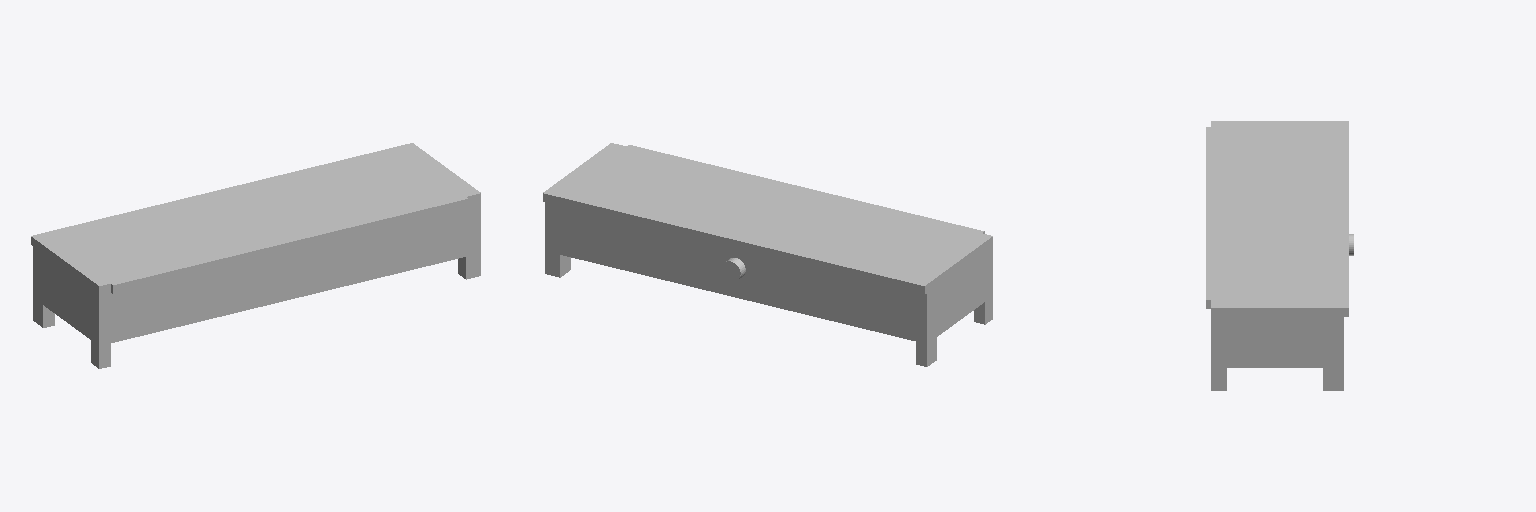
File: 电视柜.obj
The picture shows the model from 3 angles: view 1: azimuth 30°, elevation 25°; view 2: azimuth 150°, elevation 25°; view 3: azimuth 270°, elevation 25°; orthographic projection.
Parts seen in each view (by area): view 1: Cylinder; view 2: Cylinder; view 3: Cylinder.
Part boxes in pixels (x1,y1,x2,y2): Cylinder: (31,143,480,368); Cylinder: (543,143,992,366); Cylinder: (1206,121,1353,390).
Bounding box in the file's own units: 2 × 0.4148 × 0.6693.